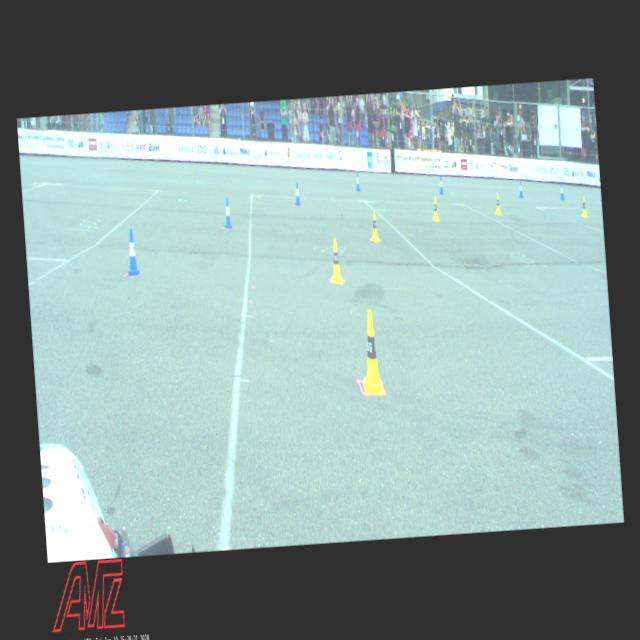blue_cone: (124, 228, 139, 274), (223, 196, 232, 228), (293, 182, 300, 204), (438, 176, 444, 193), (355, 171, 360, 191), (518, 180, 523, 198), (559, 182, 564, 200)
yellow_cone: (358, 309, 383, 394), (329, 236, 342, 284), (369, 209, 379, 241), (431, 196, 439, 221), (494, 192, 502, 215), (580, 197, 586, 217)
